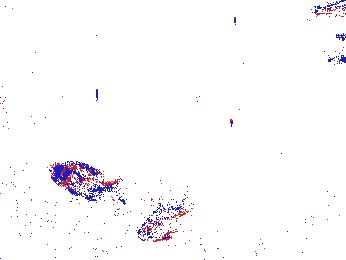X-ray fish: (47, 161, 121, 200), (136, 198, 198, 243), (1, 181, 36, 209)
red belly glassfish: (314, 1, 346, 20)
